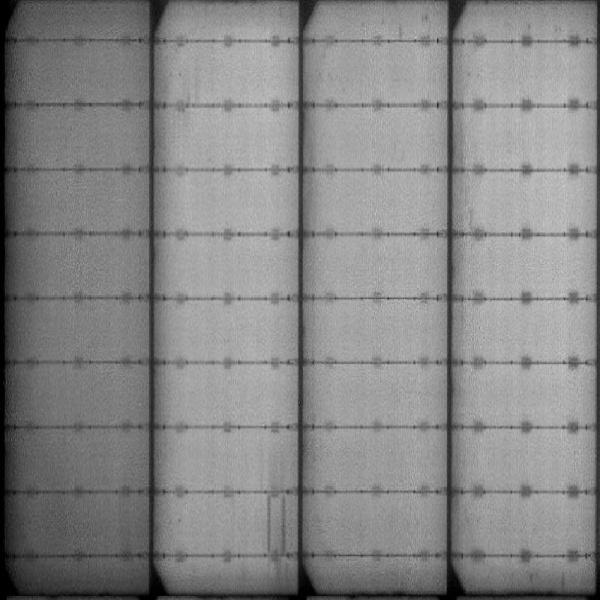scratch: (263, 493, 275, 556), (281, 492, 289, 559)
